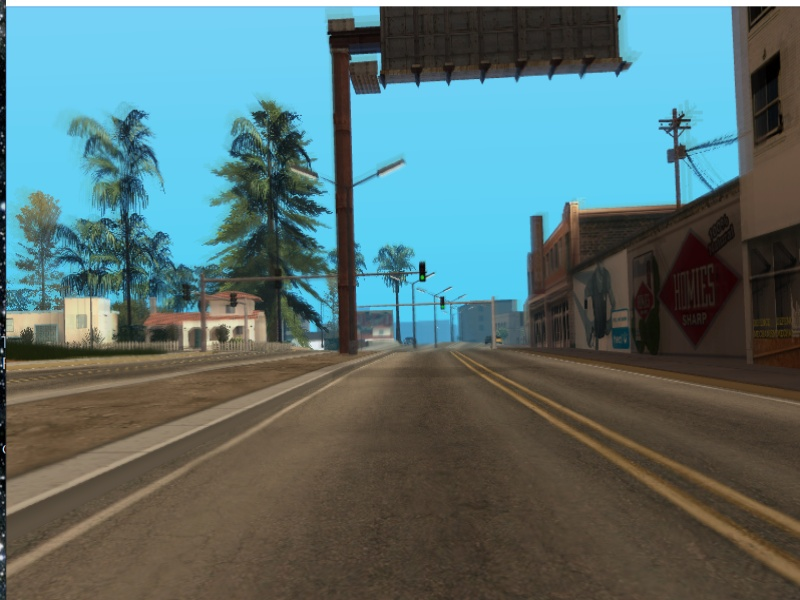pole: (324, 22, 371, 359), (408, 282, 424, 350), (197, 277, 211, 351), (485, 296, 501, 349)
